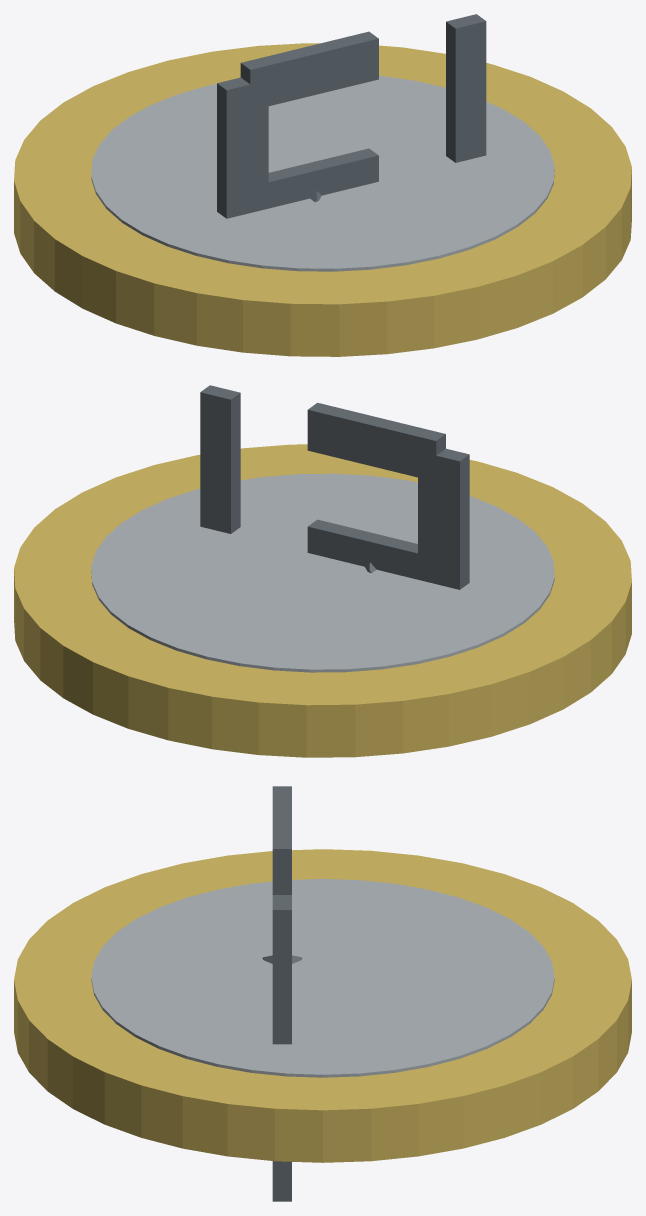
The model's file is rand_coin_R1.glb.
3 renders of one model, top to bottom at view 1: azimuth 30°, elevation 25°; view 2: azimuth 150°, elevation 25°; view 3: azimuth 270°, elevation 25°, orthographic.
Parts seen in each view (by area): view 1: part_0, part_1, part_3, part_2, part_6, part_4; view 2: part_0, part_1, part_2, part_3, part_6, part_4; view 3: part_0, part_1, part_6, part_3.
Boxes of the visible parts, left/top/right/bottom form: part_0: left=14, top=43, right=631, bottom=356; part_1: left=91, top=75, right=554, bottom=271; part_3: left=240, top=31, right=378, bottom=110; part_2: left=217, top=77, right=268, bottom=218; part_6: left=446, top=14, right=486, bottom=162; part_4: left=250, top=148, right=378, bottom=212; part_0: left=14, top=444, right=631, bottom=757; part_1: left=91, top=473, right=554, bottom=672; part_2: left=418, top=448, right=469, bottom=589; part_3: left=307, top=402, right=445, bottom=479; part_6: left=200, top=385, right=240, bottom=533; part_4: left=307, top=519, right=429, bottom=580; part_0: left=14, top=849, right=631, bottom=1162; part_1: left=91, top=879, right=554, bottom=1077; part_6: left=272, top=895, right=291, bottom=1201; part_3: left=272, top=786, right=291, bottom=889.
Bounding box in the file's own units: 0.96 × 0.515 × 0.96.
